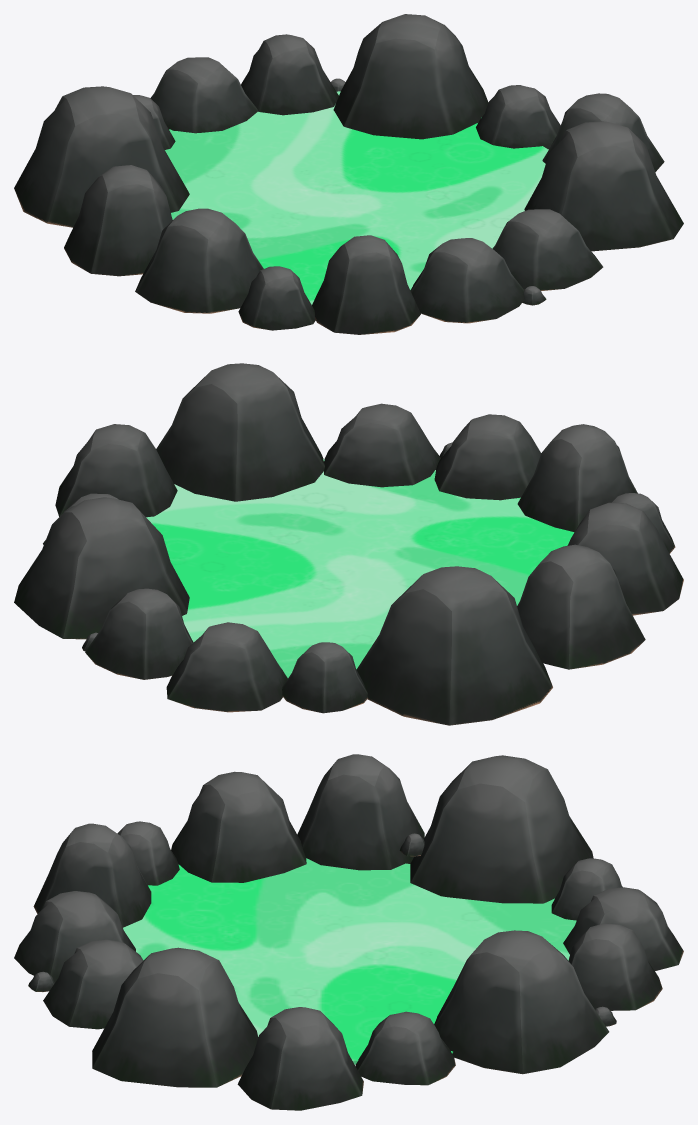
File: Water.fbx
The picture shows the model from 3 angles, top to bottom: view 1: azimuth 30°, elevation 25°; view 2: azimuth 150°, elevation 25°; view 3: azimuth 270°, elevation 25°; orthographic projection. The views are drawn at different scales.
Parts seen in each view (by area): view 1: Box028, Box010, Box007, Box011, Box016, Box017, Box020, Box024, Box019, Box015, Box006, Box012 (+3 smaller); view 2: Box028, Box007, Box011, Box010, Box017, Box015, Box020, Box016, Box019, Box013, Box006, Box024 (+2 smaller); view 3: Box028, Box007, Box010, Box011, Box016, Box017, Box013, Box020, Box006, Box019, Box024, Box012 (+3 smaller).
Boxes of the visible parts, bbox=[...] form: Box028: bbox=[165, 91, 548, 304]; Box010: bbox=[333, 14, 488, 139]; Box007: bbox=[14, 86, 189, 227]; Box011: bbox=[524, 121, 683, 251]; Box016: bbox=[135, 208, 263, 313]; Box017: bbox=[64, 165, 172, 276]; Box020: bbox=[312, 235, 420, 334]; Box024: bbox=[410, 238, 524, 323]; Box019: bbox=[492, 209, 603, 290]; Box015: bbox=[150, 57, 257, 133]; Box006: bbox=[241, 34, 338, 115]; Box012: bbox=[476, 85, 560, 149]; Box028: bbox=[146, 459, 574, 677]; Box007: bbox=[356, 566, 552, 725]; Box011: bbox=[156, 363, 324, 501]; Box010: bbox=[14, 497, 189, 639]; Box017: bbox=[517, 544, 645, 669]; Box015: bbox=[166, 622, 287, 712]; Box020: bbox=[517, 424, 637, 532]; Box016: bbox=[567, 502, 683, 615]; Box019: bbox=[324, 403, 440, 487]; Box013: bbox=[55, 424, 177, 517]; Box006: bbox=[85, 588, 193, 679]; Box024: bbox=[434, 414, 541, 500]; Box028: bbox=[123, 858, 576, 1064]; Box007: bbox=[410, 755, 593, 903]; Box010: bbox=[434, 930, 609, 1074]; Box011: bbox=[92, 947, 258, 1087]; Box016: bbox=[171, 771, 306, 882]; Box017: bbox=[297, 754, 424, 870]; Box013: bbox=[237, 1007, 363, 1110]; Box020: bbox=[33, 823, 151, 927]; Box006: bbox=[568, 923, 662, 1010]; Box019: bbox=[43, 939, 143, 1029]; Box024: bbox=[14, 891, 135, 982]; Box012: bbox=[355, 1011, 455, 1085].
Size of the model in its own units: 63.8 by 11.33 by 62.37.
1 material, 1 textured.
